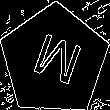M_S: (25, 29, 84, 92)
